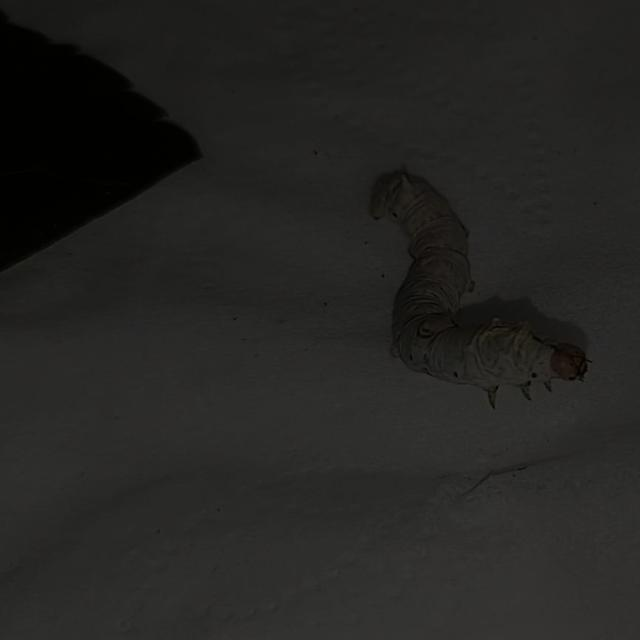Healthy: (332, 135, 606, 424)
